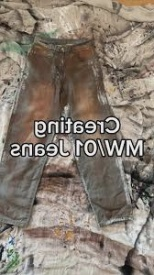earth: (71, 63, 99, 116), (33, 60, 53, 119)
